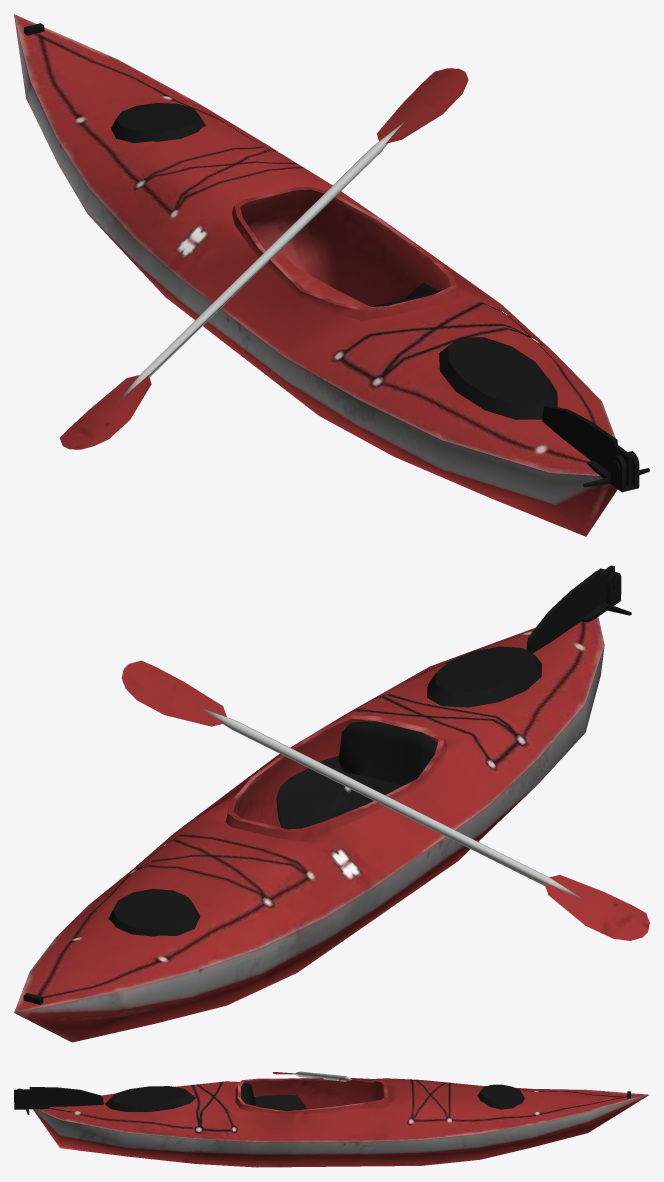
File: kayak.glb
3 views of the same model, one above another, from view 1: azimuth 30°, elevation 25°; view 2: azimuth 150°, elevation 25°; view 3: azimuth 270°, elevation 25° (orthographic). The views are drawn at different scales.
Visible parts, largest first — view 1: polySurface3_lambert2_0, pCylinder5_lambert2_0, pCylinder2_lambert2_0, pCylinder1_lambert2_0, pCube3_lambert2_0, pCube5_lambert2_0; view 2: polySurface3_lambert2_0, pCylinder5_lambert2_0, pCylinder2_lambert2_0, polySurface4_lambert2_0, polySurface2_lambert2_0, pCylinder1_lambert2_0, pCube3_lambert2_0, pCube5_lambert2_0; view 3: polySurface3_lambert2_0, pCylinder2_lambert2_0, pCube3_lambert2_0, pCylinder1_lambert2_0, polySurface2_lambert2_0, pCylinder5_lambert2_0, pCube5_lambert2_0, polySurface4_lambert2_0.
Part boxes in pixels (left/top/right/bottom): polySurface3_lambert2_0: left=14, top=14, right=618, bottom=536; pCylinder5_lambert2_0: left=60, top=68, right=468, bottom=449; pCylinder2_lambert2_0: left=439, top=337, right=557, bottom=419; pCylinder1_lambert2_0: left=111, top=103, right=205, bottom=142; pCube3_lambert2_0: left=542, top=405, right=632, bottom=486; pCube5_lambert2_0: left=583, top=451, right=649, bottom=492; polySurface3_lambert2_0: left=14, top=617, right=604, bottom=1042; pCylinder5_lambert2_0: left=121, top=660, right=649, bottom=940; pCylinder2_lambert2_0: left=427, top=646, right=541, bottom=707; polySurface4_lambert2_0: left=338, top=721, right=437, bottom=785; polySurface2_lambert2_0: left=276, top=755, right=402, bottom=829; pCylinder1_lambert2_0: left=108, top=888, right=200, bottom=936; pCube3_lambert2_0: left=526, top=565, right=614, bottom=653; pCube5_lambert2_0: left=581, top=568, right=631, bottom=622; polySurface3_lambert2_0: left=33, top=1077, right=649, bottom=1167; pCylinder2_lambert2_0: left=105, top=1086, right=195, bottom=1111; pCube3_lambert2_0: left=14, top=1087, right=103, bottom=1106; pCylinder1_lambert2_0: left=477, top=1084, right=524, bottom=1109; polySurface2_lambert2_0: left=254, top=1094, right=307, bottom=1111; pCylinder5_lambert2_0: left=272, top=1071, right=374, bottom=1082; pCube5_lambert2_0: left=14, top=1088, right=49, bottom=1114; polySurface4_lambert2_0: left=241, top=1083, right=255, bottom=1105.
Bounding box in the file's own units: 1.48 × 0.6518 × 3.4.
Materials: 1 (1 with a texture image).
